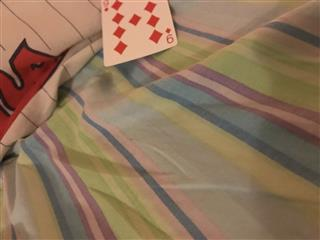NineOfDiamonds: (100, 1, 178, 67)
